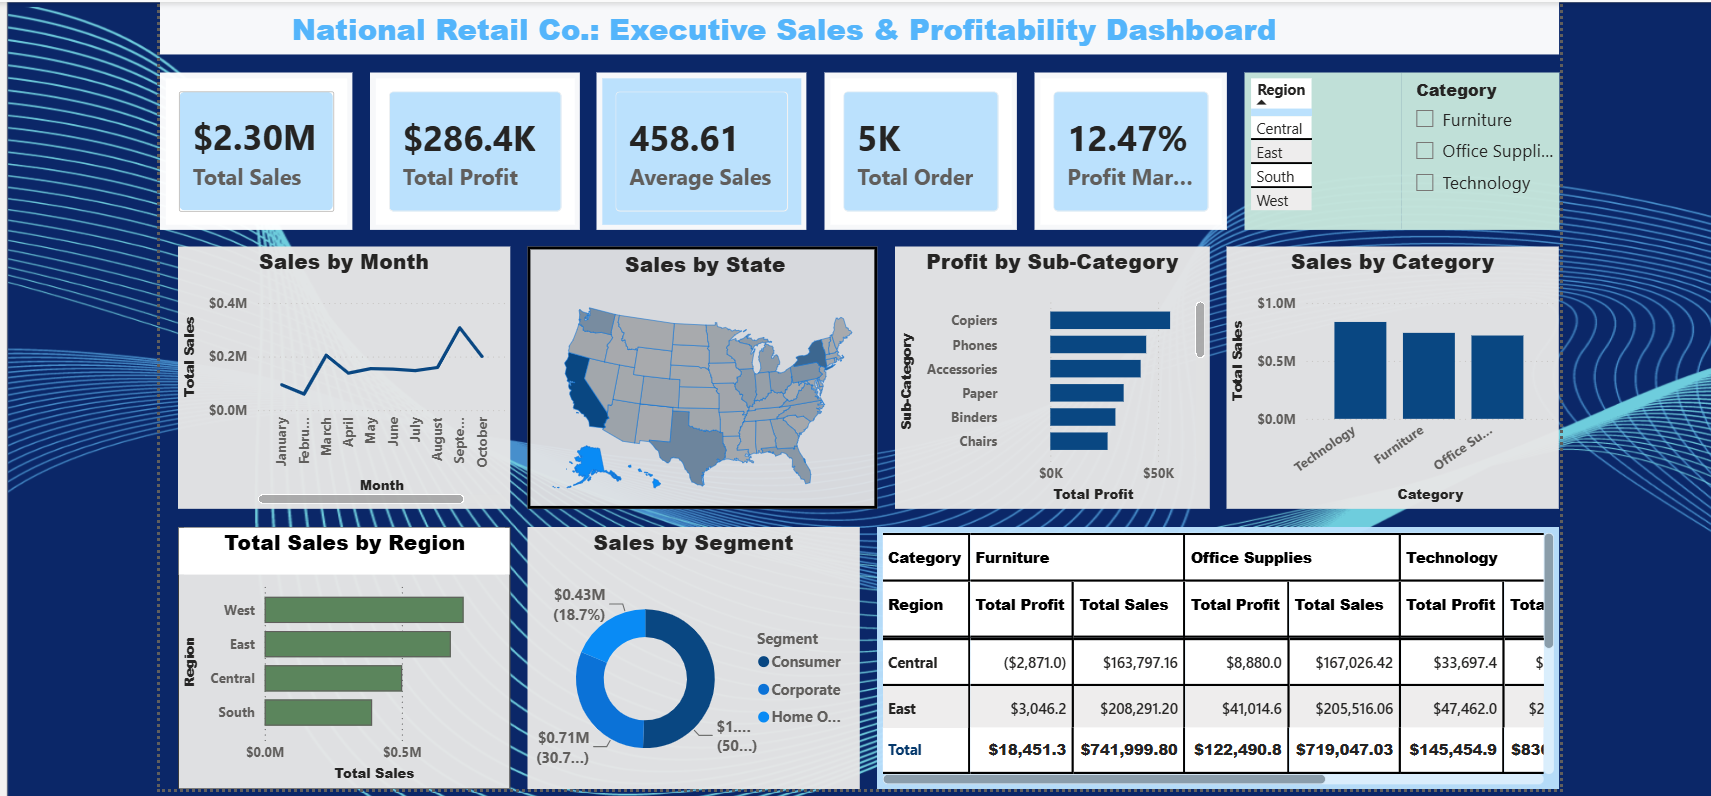

This screenshot's page, from the dashboard's own definition file:
{"tool":"powerbi","page":{"name":"Combined  Visuals","canvas":[1280,720],"ordinal":3},"visuals":[{"type":"cardVisual","fields":{"Data":["_Measures.Total Sales"]},"box":[0,64,176,144],"z":1},{"type":"cardVisual","fields":{"Data":["_Measures.Total Profit"]},"box":[192,64,192,144],"z":2},{"type":"cardVisual","fields":{"Data":["_Measures.Average Sales"]},"box":[400,64,192,144],"z":3},{"type":"cardVisual","fields":{"Data":["_Measures.Total Order"]},"box":[608,64,176,144],"z":4},{"type":"cardVisual","fields":{"Data":["_Measures.Profit Margin"]},"box":[800,64,176,144],"z":5},{"type":"lineChart","title":"Sales by Month","fields":{"Y":["_Measures.Total Sales"],"Category":["Cleaned - Superstore.Order Date.Variation.Date Hierarchy.Month"]},"box":[16,224,304,240],"z":6},{"type":"shapeMap","title":" Sales by State","fields":{"Category":["Cleaned - Superstore.State"],"Value":["_Measures.Total Sales"]},"box":[336,224,320,240],"z":7},{"type":"tableEx","fields":{"Values":["Cleaned - Superstore.Region"]},"box":[992,64,144,144],"z":8},{"type":"slicer","fields":{"Values":["Cleaned - Superstore.Category"]},"box":[1136,64,144,144],"z":10},{"type":"clusteredBarChart","title":"Profit by Sub-Category","fields":{"Y":["_Measures.Total Profit"],"Category":["Cleaned - Superstore.Sub-Category"]},"box":[672,224,288,240],"z":11},{"type":"clusteredColumnChart","title":" Sales by Category","fields":{"Y":["_Measures.Total Sales"],"Category":["Cleaned - Superstore.Category"]},"box":[976,224,304,240],"z":12},{"type":"clusteredBarChart","fields":{"Category":["Cleaned - Superstore.Region"],"Y":["_Measures.Total Sales"]},"box":[16,480,304,240],"z":13},{"type":"donutChart","title":" Sales by Segment","fields":{"Y":["_Measures.Total Sales"],"Category":["Cleaned - Superstore.Segment"]},"box":[336,480,304,240],"z":14},{"type":"pivotTable","fields":{"Rows":["Cleaned - Superstore.Region"],"Columns":["Cleaned - Superstore.Category"],"Values":["_Measures.Total Profit","_Measures.Total Sales"]},"box":[656,480,624,240],"z":16},{"type":"textbox","box":[0,0,1280,48],"z":17}]}

Visuals, with their boxes in screenshot pixels (x1, y1, x2, y2):
cardVisual - _Measures.Total Sales: l=156, t=65, r=348, b=223
cardVisual - _Measures.Total Profit: l=366, t=65, r=575, b=223
cardVisual - _Measures.Average Sales: l=593, t=65, r=803, b=223
cardVisual - _Measures.Total Order: l=820, t=65, r=1012, b=223
cardVisual - _Measures.Profit Margin: l=1030, t=65, r=1222, b=223
"Sales by Month" lineChart: l=173, t=240, r=506, b=502
" Sales by State" shapeMap: l=523, t=240, r=873, b=502
tableEx - Cleaned - Superstore.Region: l=1240, t=65, r=1397, b=223
slicer - Cleaned - Superstore.Category: l=1397, t=65, r=1554, b=223
"Profit by Sub-Category" clusteredBarChart: l=890, t=240, r=1205, b=502
" Sales by Category" clusteredColumnChart: l=1222, t=240, r=1554, b=502
clusteredBarChart - Cleaned - Superstore.Region x _Measures.Total Sales: l=173, t=520, r=506, b=782
" Sales by Segment" donutChart: l=523, t=520, r=855, b=782
pivotTable - Cleaned - Superstore.Region x Cleaned - Superstore.Category: l=873, t=520, r=1554, b=782
textbox: l=156, t=0, r=1554, b=48
